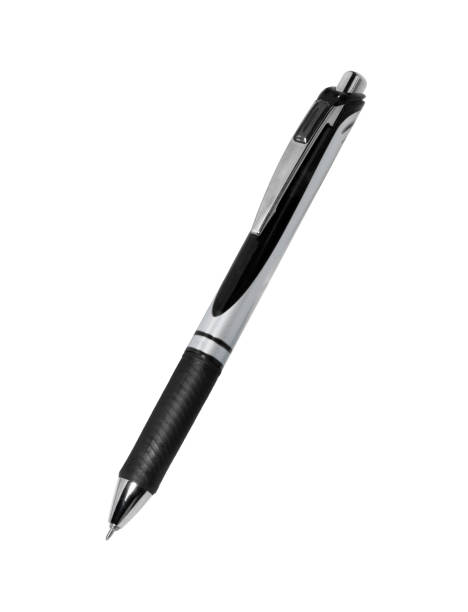pen: (102, 67, 387, 552)
